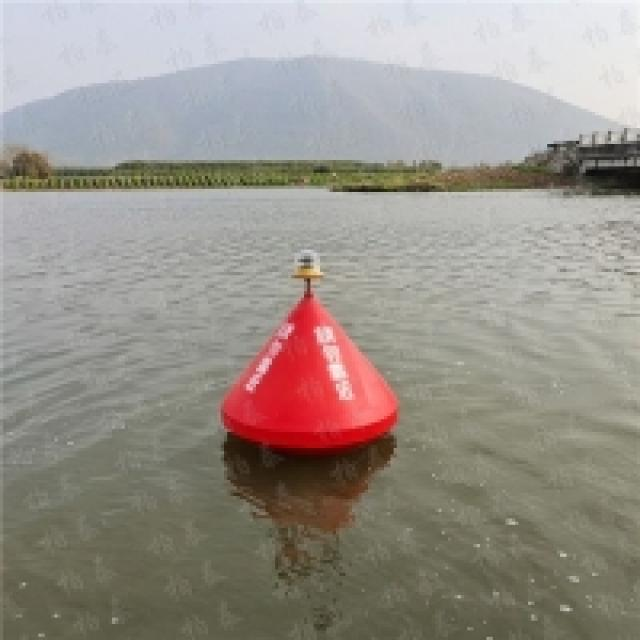buoy: (217, 247, 404, 450)
